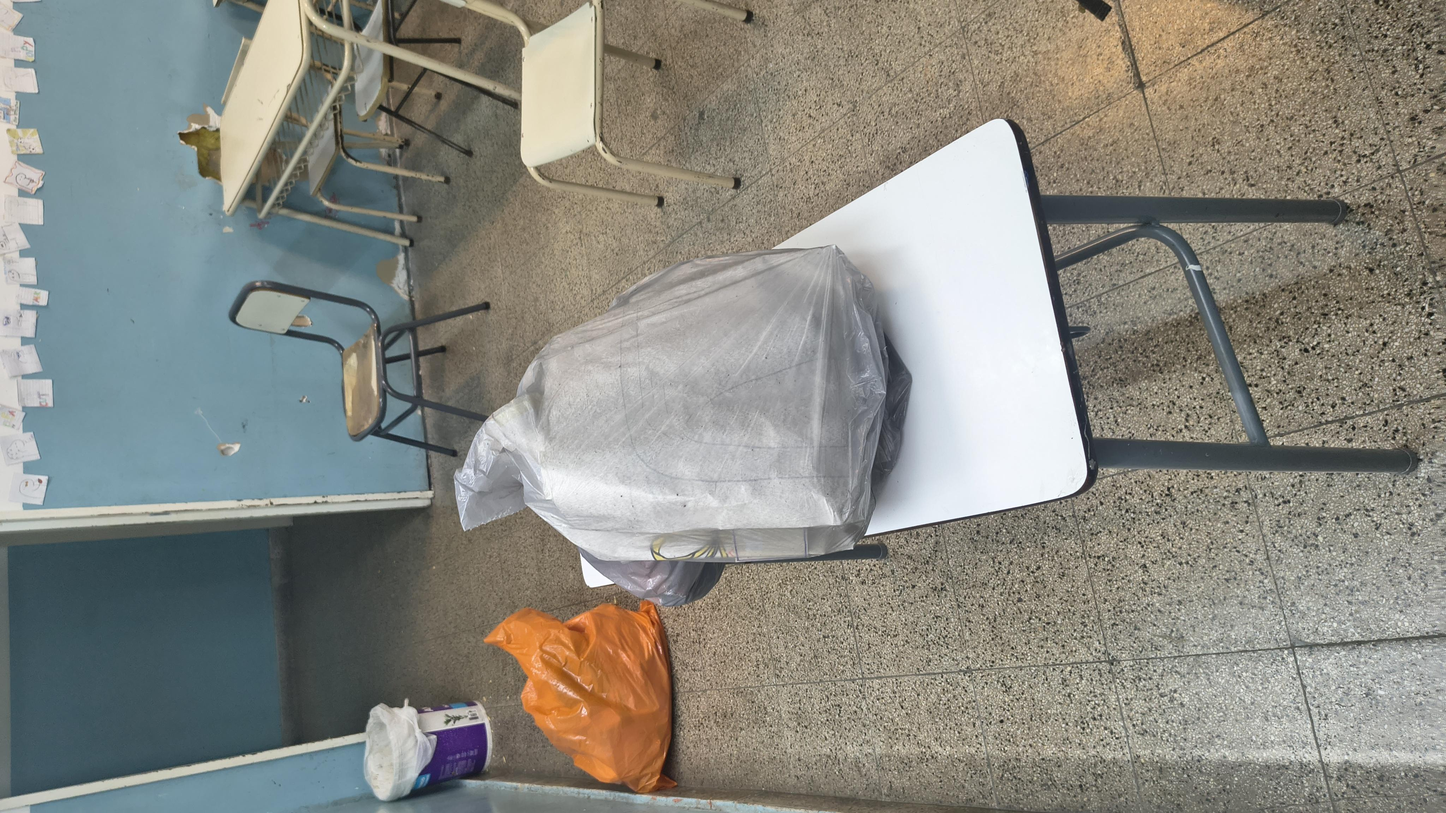Garbage: (345, 220, 1111, 534), (0, 256, 402, 399)
